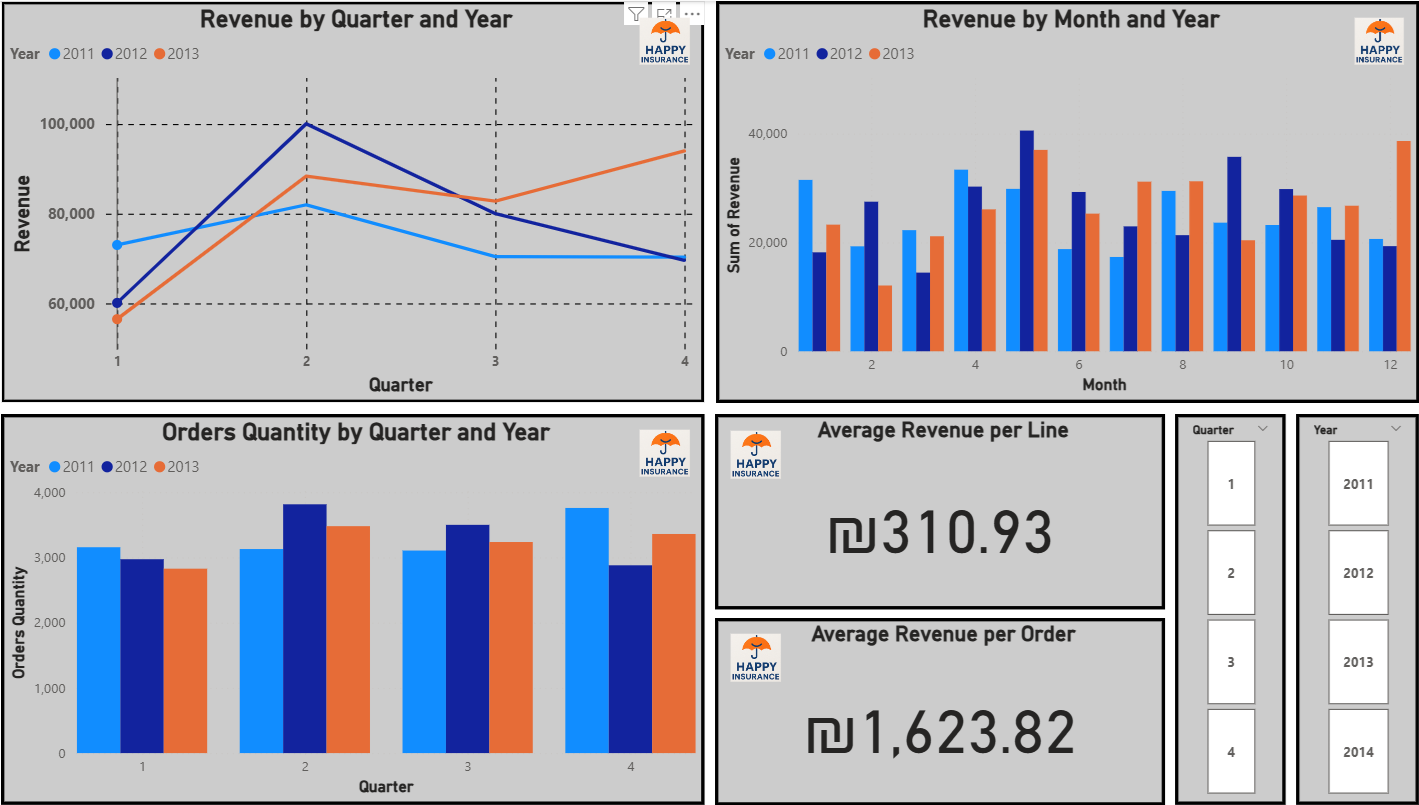

Layout of this report page (visuals, bound fields, positions):
{"tool":"powerbi","page":{"name":"Revenue Evolution in Time","canvas":[1280,720],"ordinal":2},"visuals":[{"type":"lineChart","title":"Revenue by Quarter and Year","fields":{"Category":["Date.Quarter"],"Y":["Sales.Sum of Revenue"],"Series":["Date.Year"]},"box":[10,0,630,360.3],"z":0},{"type":"clusteredColumnChart","title":"Orders Quantity by Quarter and Year","fields":{"Category":["Date.Quarter"],"Series":["Date.Year"],"Y":["Sales.Sum of RevenueQty"]},"box":[10,370,630,350],"z":1000},{"type":"image","box":[576.3,9,54.7,53.7],"z":2000},{"type":"image","box":[576.3,378.2,54.7,53.7],"z":3000},{"type":"clusteredColumnChart","title":"Revenue by Month and Year","fields":{"Category":["Date.Month"],"Y":["Sales.Sum of Revenue"],"Series":["Date.Year"]},"box":[650,0,630,360],"z":4000},{"type":"card","title":"Average Revenue per Line","fields":{"Values":["Sales.AvgRevLine"]},"box":[649.6,369.8,403.1,174.8],"z":5000},{"type":"card","title":"Average Revenue per Order","fields":{"Values":["Sales.AvgRevOrd"]},"box":[649.6,552.6,403.1,167.7],"z":6000},{"type":"slicer","fields":{"Values":["Date.Year"]},"box":[1169.9,369.8,110.1,349.6],"z":7000},{"type":"slicer","fields":{"Values":["Date.Quarter"]},"box":[1060.8,369.8,99,349.6],"z":8000},{"type":"image","box":[1216.8,8.8,54.5,54.5],"z":9000},{"type":"image","box":[657.8,378.6,54.8,54.8],"z":10000},{"type":"image","box":[657.8,560.3,54.8,54.8],"z":11000}]}

Visuals, with their boxes in screenshot pixels (x1, y1, x2, y2), scaled from the page's 1280x720 canvas onto the 1419x805 screenshot:
"Revenue by Quarter and Year" lineChart: (x1=11, y1=0, x2=710, y2=403)
"Orders Quantity by Quarter and Year" clusteredColumnChart: (x1=11, y1=414, x2=710, y2=804)
image: (x1=639, y1=10, x2=700, y2=70)
image: (x1=639, y1=423, x2=700, y2=483)
"Revenue by Month and Year" clusteredColumnChart: (x1=721, y1=0, x2=1418, y2=402)
"Average Revenue per Line" card: (x1=720, y1=413, x2=1167, y2=609)
"Average Revenue per Order" card: (x1=720, y1=618, x2=1167, y2=804)
slicer - Date.Year: (x1=1297, y1=413, x2=1418, y2=804)
slicer - Date.Quarter: (x1=1176, y1=413, x2=1286, y2=804)
image: (x1=1349, y1=10, x2=1409, y2=71)
image: (x1=729, y1=423, x2=790, y2=485)
image: (x1=729, y1=626, x2=790, y2=688)
